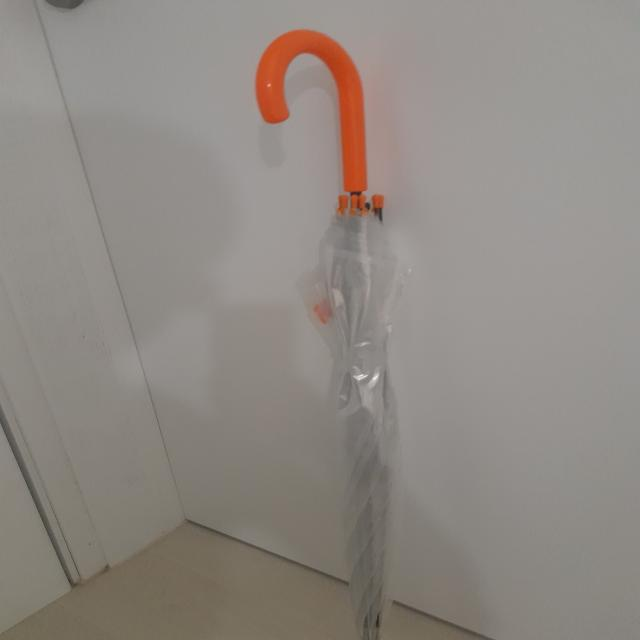umbrella: (256, 32, 420, 640)
